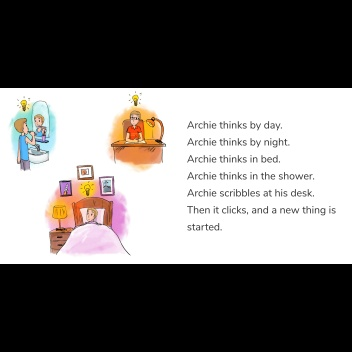latin: (184, 203, 338, 217), (185, 170, 316, 182), (185, 186, 315, 198), (184, 135, 291, 148), (185, 118, 283, 131), (185, 152, 281, 165), (184, 220, 225, 233)
